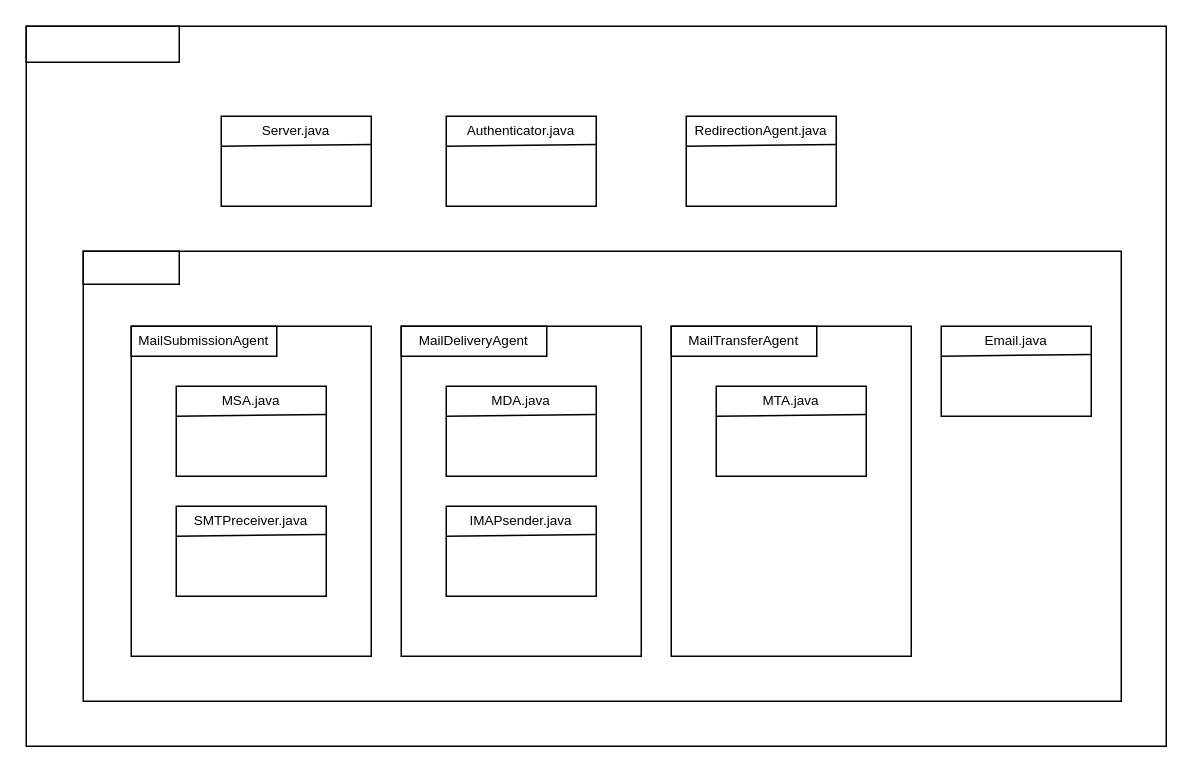
Some shapes in this 1193 by 773 pixel diagram are drawn without their labels. Each missing label, with the centre of its shape:
"Agents" belongs at (x=130, y=267).
"SMTP.IMAPserver" belongs at (x=102, y=43).
